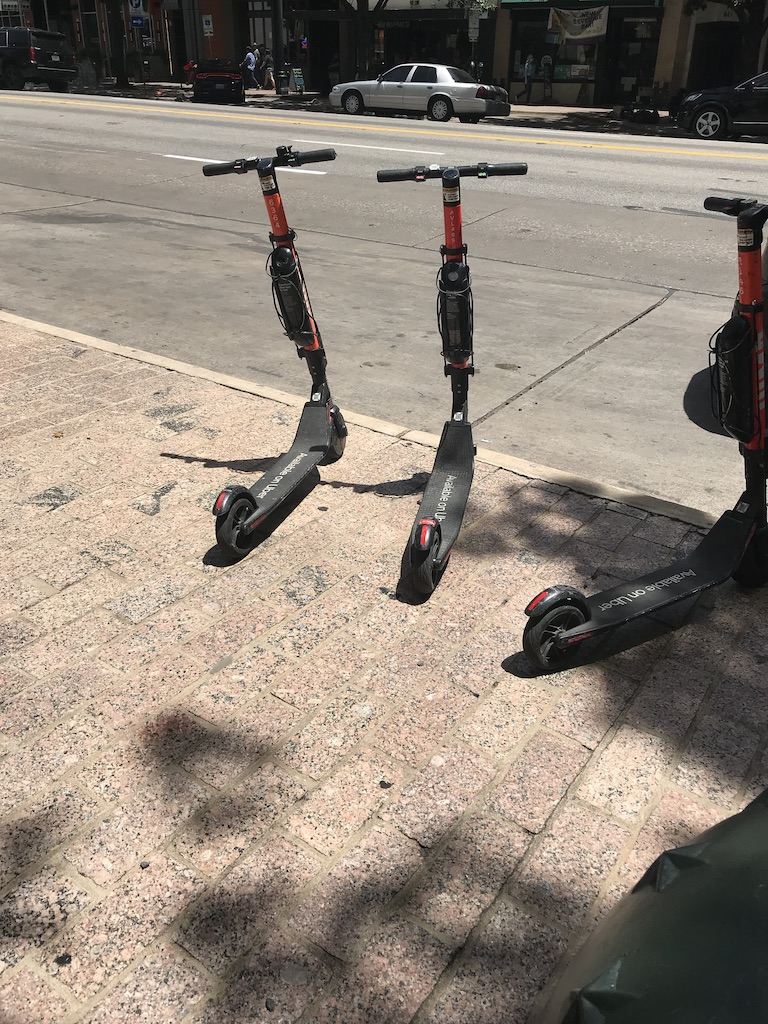scooter: (522, 200, 766, 667), (372, 157, 534, 590), (196, 146, 346, 559)
